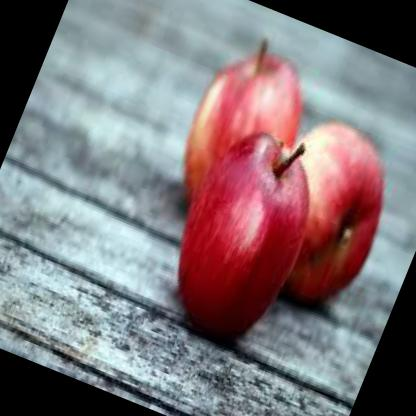apple: (150, 105, 342, 352)
